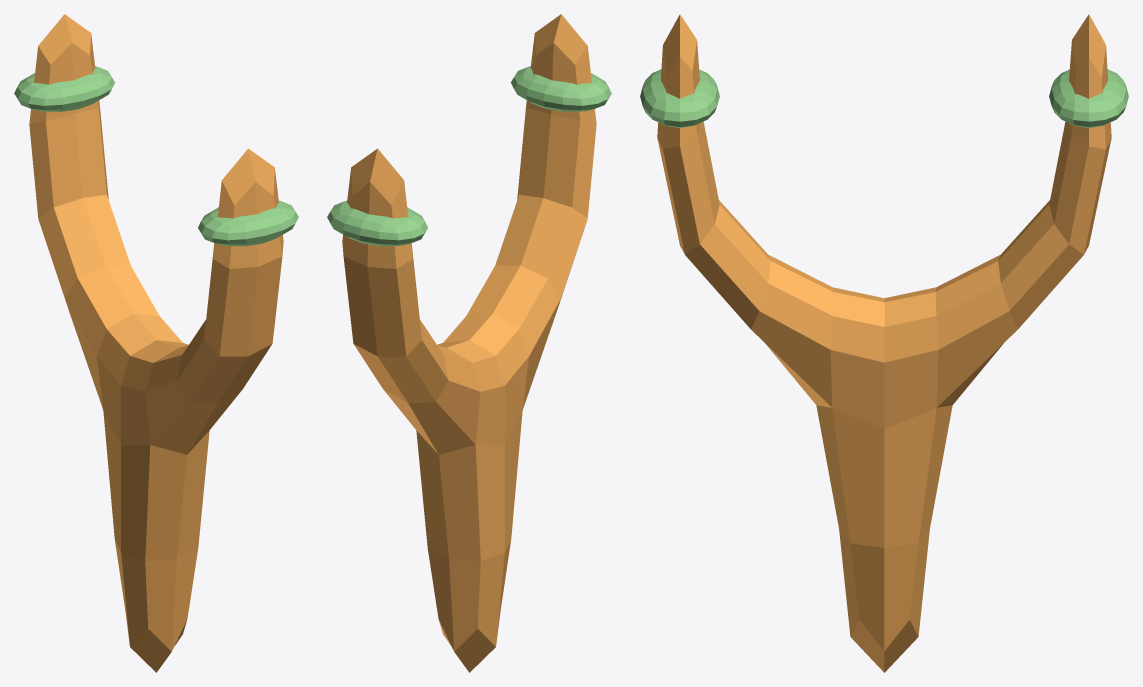
Rendered from Slingshot.fbx.
The picture shows the model from 3 angles, left to right: view 1: azimuth 30°, elevation 25°; view 2: azimuth 150°, elevation 25°; view 3: azimuth 270°, elevation 25°; orthographic projection. The views are drawn at different scales.
Visible parts, largest first — view 1: Cube, Cube.001, Cube.002; view 2: Cube, Cube.002, Cube.001; view 3: Cube, Cube.002, Cube.001.
Part boxes in pixels (x1,y1,x2,y2): Cube: (29, 14, 283, 672); Cube.001: (198, 200, 298, 246); Cube.002: (14, 66, 114, 111); Cube: (342, 14, 596, 672); Cube.002: (327, 200, 427, 246); Cube.001: (511, 66, 611, 111); Cube: (657, 14, 1111, 672); Cube.002: (1049, 69, 1128, 127); Cube.001: (640, 69, 719, 127).
Size of the model in its own units: 264 by 1600 by 1076.
